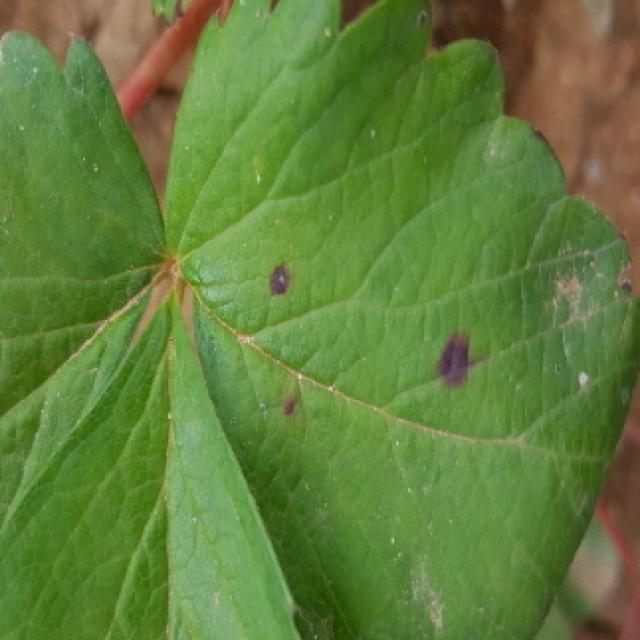Leaf Spot: (162, 0, 640, 640), (0, 29, 168, 532)
